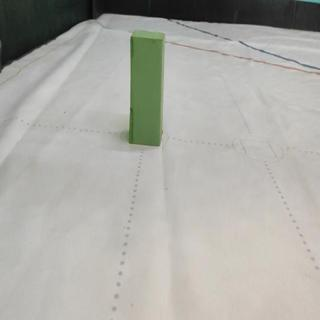greenbox: (128, 29, 166, 146)
